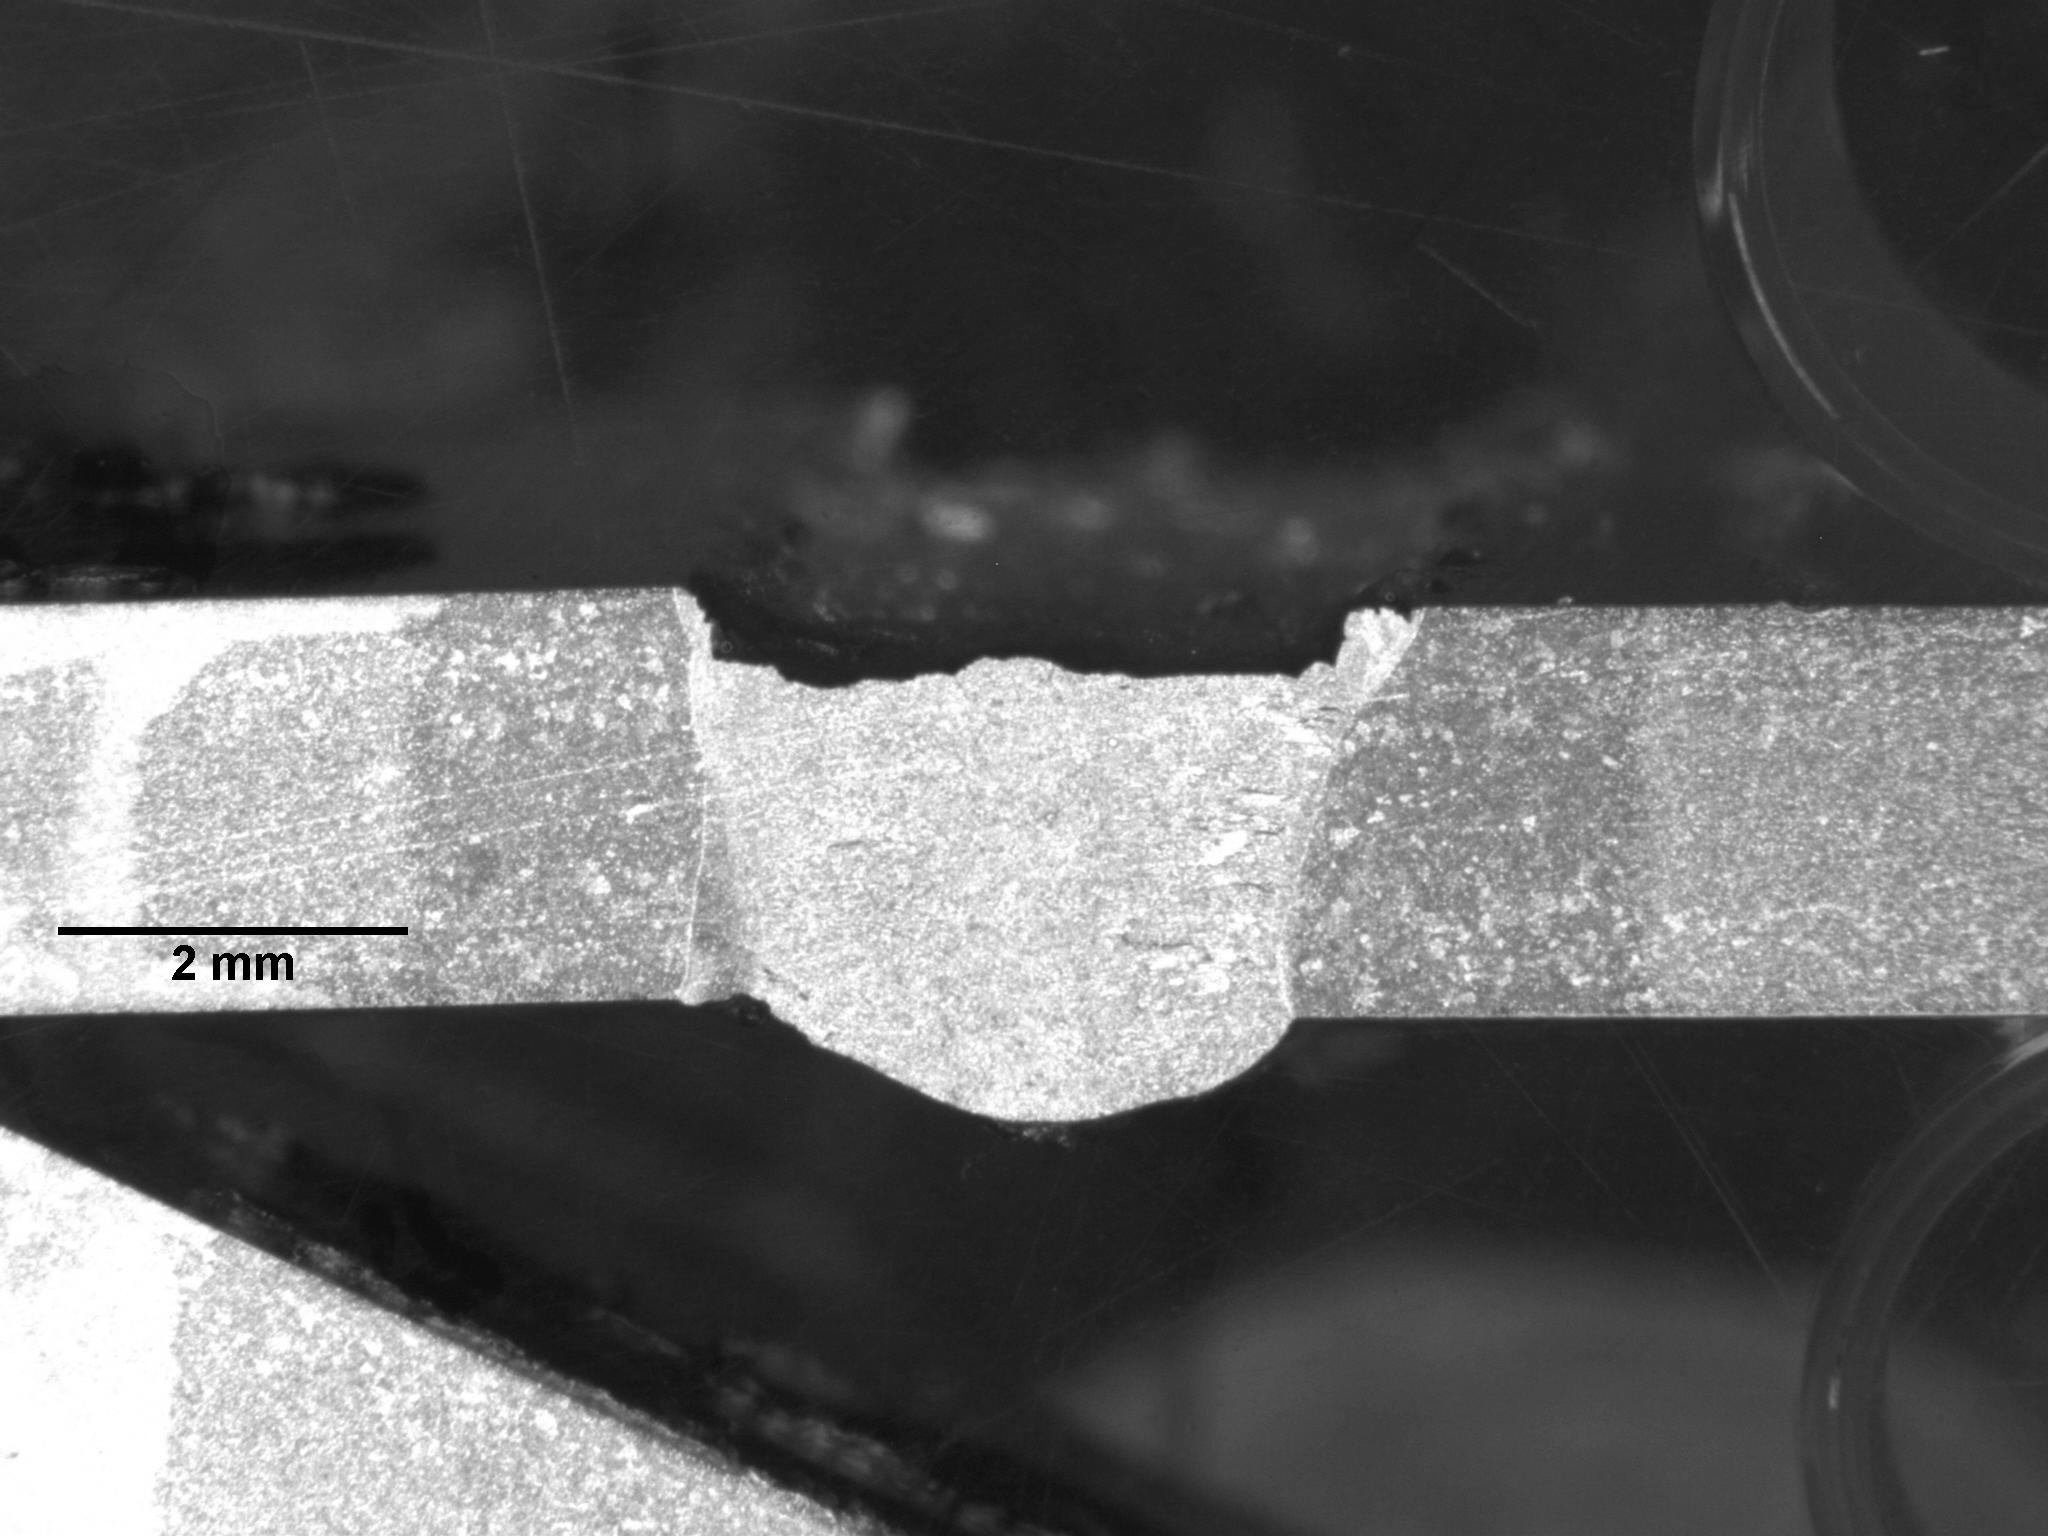Scale-bar: (50, 918, 414, 987)
